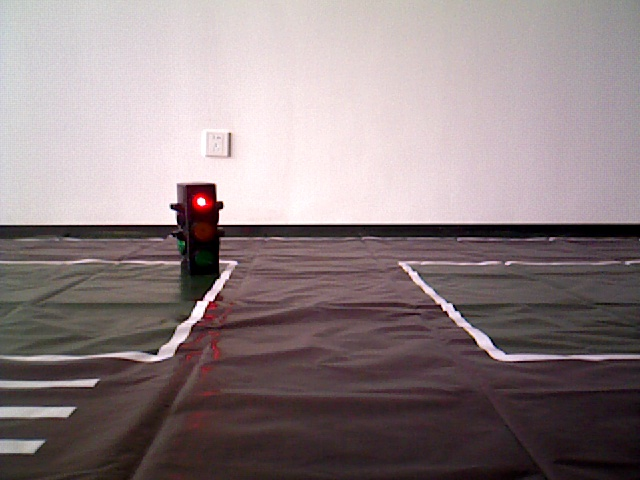red: (177, 186, 217, 279)
